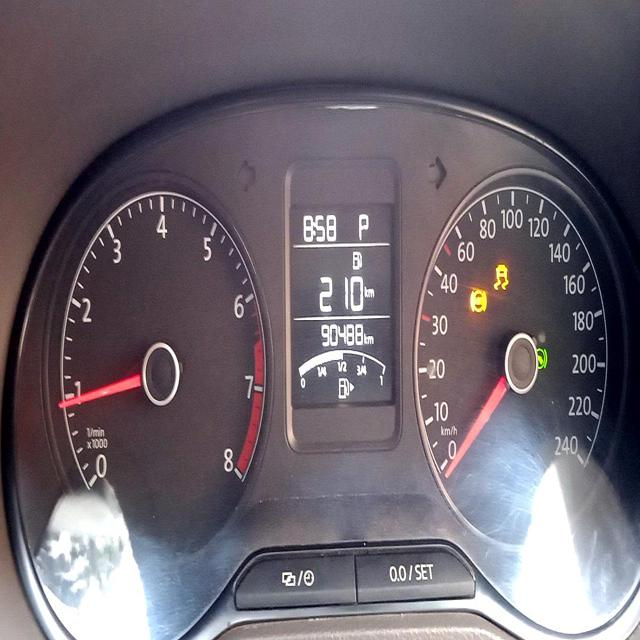odometer: (316, 317, 365, 351)
